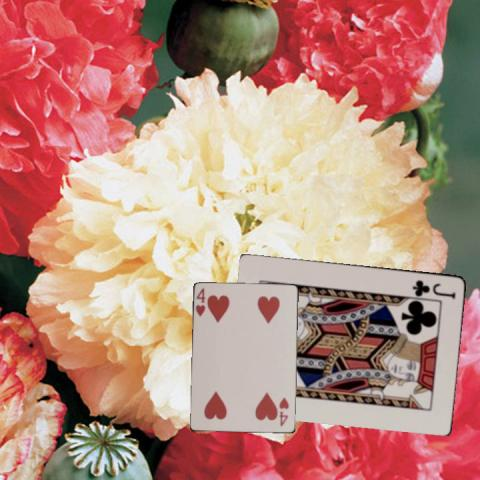4h: (193, 285, 207, 318), (277, 395, 290, 428)
Jc: (410, 276, 457, 299)
